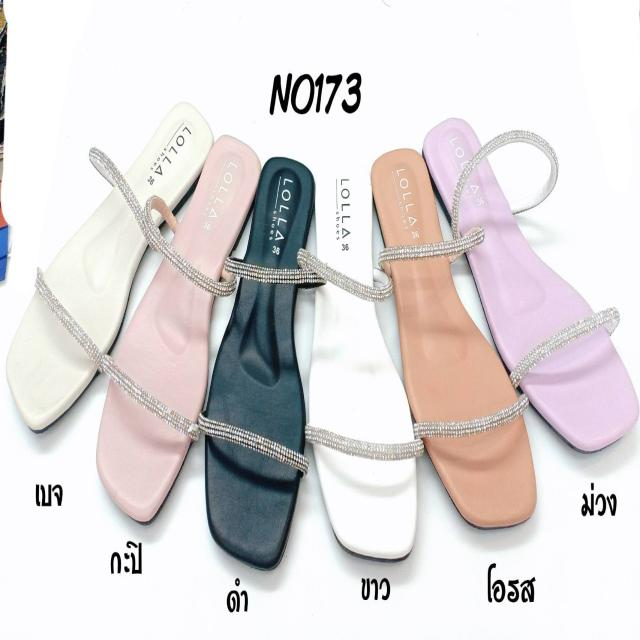bej: (2, 99, 216, 435)
black: (200, 156, 312, 563)
kapi: (93, 133, 261, 528)
orot: (368, 144, 542, 526)
purple: (426, 105, 636, 456)
white: (310, 162, 419, 556)
